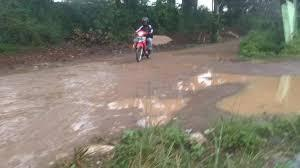Pothole: (172, 60, 300, 124), (100, 90, 186, 125), (66, 58, 133, 70), (38, 88, 77, 108), (72, 114, 88, 133), (55, 74, 81, 80)
